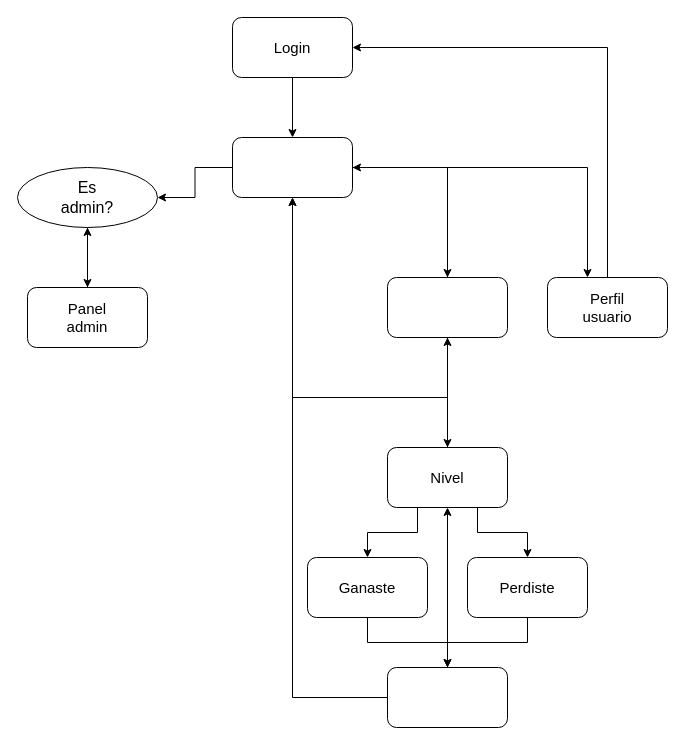
The diagram is 685 pixels wide and 745 high, and some of its shapes have lost their labels. Here are the shapes that lost their labels. From the top down, the box of each, then its label:
(232, 136, 352, 198): Inicio
(386, 276, 508, 338): Seleccion nivel
(386, 666, 508, 728): Explicacion
